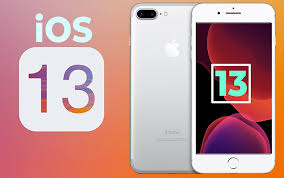iphone: (189, 1, 277, 176)
iphone7: (189, 2, 277, 177)
